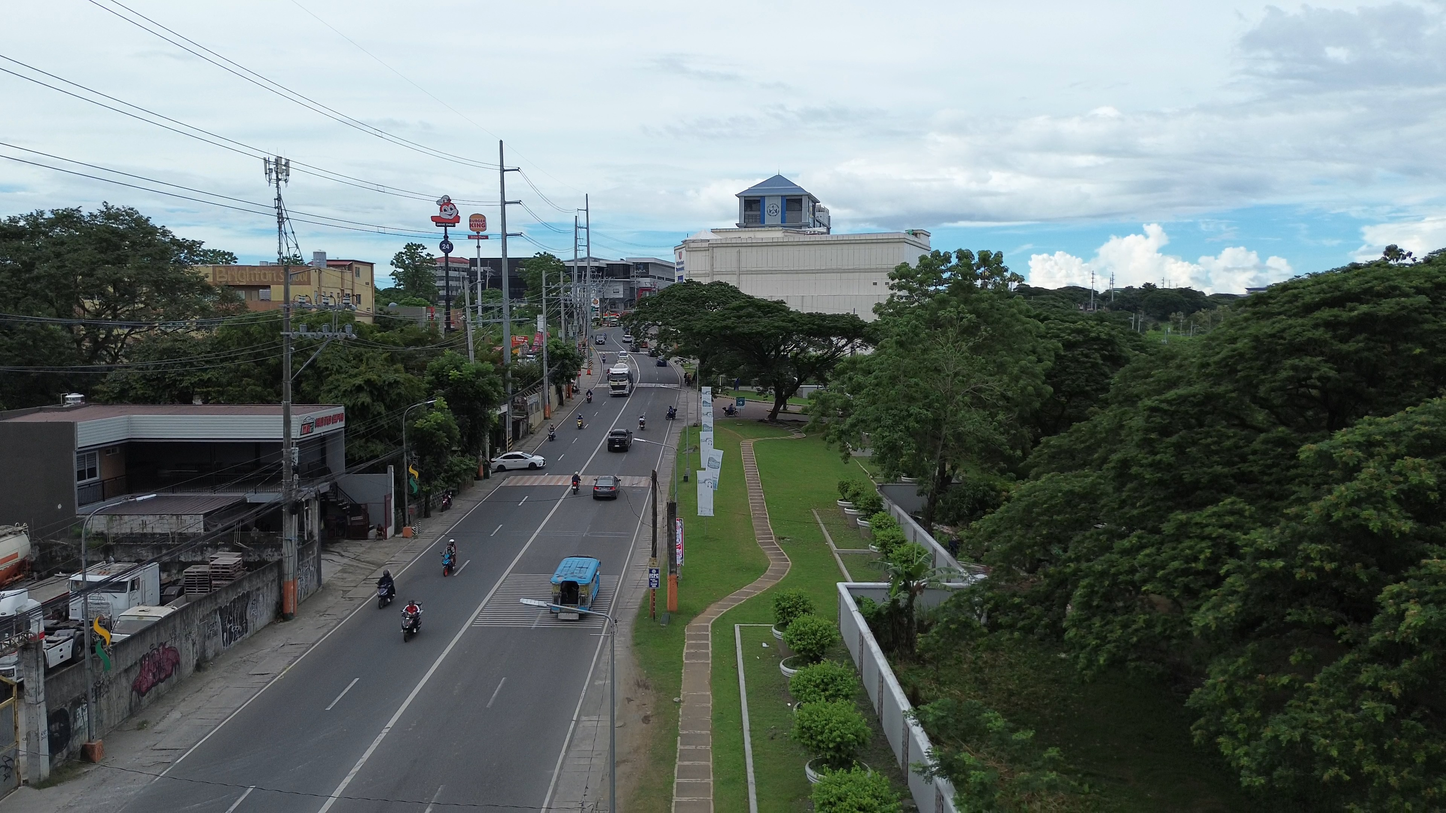car: (491, 452, 545, 471), (593, 475, 619, 499), (648, 347, 661, 358), (622, 333, 634, 344), (655, 357, 668, 367), (618, 350, 630, 359)
motorcycle: (402, 606, 420, 642), (442, 549, 455, 577), (379, 586, 395, 608), (440, 490, 452, 512), (571, 481, 580, 495), (667, 406, 676, 420), (548, 428, 555, 442), (577, 416, 584, 429), (586, 390, 592, 403), (640, 416, 645, 431)
vehicle: (69, 563, 160, 621), (551, 557, 600, 620), (111, 606, 178, 642), (0, 524, 31, 584), (607, 363, 634, 396), (402, 602, 421, 642), (607, 428, 632, 452), (442, 549, 455, 577), (648, 347, 661, 358), (594, 334, 607, 345), (666, 406, 676, 420), (621, 334, 634, 344), (638, 416, 645, 431)
